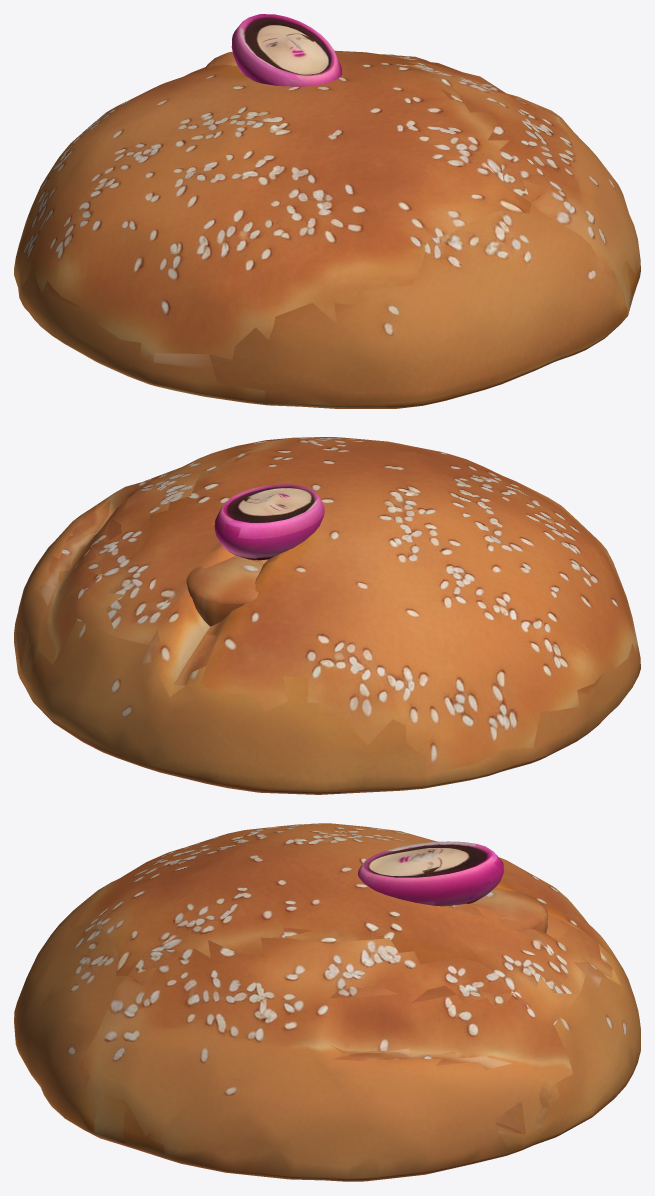
The model's file is pan_muerto.obj.
3 renders of one model, top to bottom at view 1: azimuth 30°, elevation 25°; view 2: azimuth 150°, elevation 25°; view 3: azimuth 270°, elevation 25°, orthographic.
Visible parts, largest first — view 1: pan_muerto; view 2: pan_muerto; view 3: pan_muerto.
Boxes of the visible parts, left/top/right/bottom form: pan_muerto: left=14, top=14, right=640, bottom=408; pan_muerto: left=14, top=437, right=640, bottom=794; pan_muerto: left=14, top=823, right=640, bottom=1181.
Size of the model in its own units: 0.2011 by 0.0807 by 0.2006.
